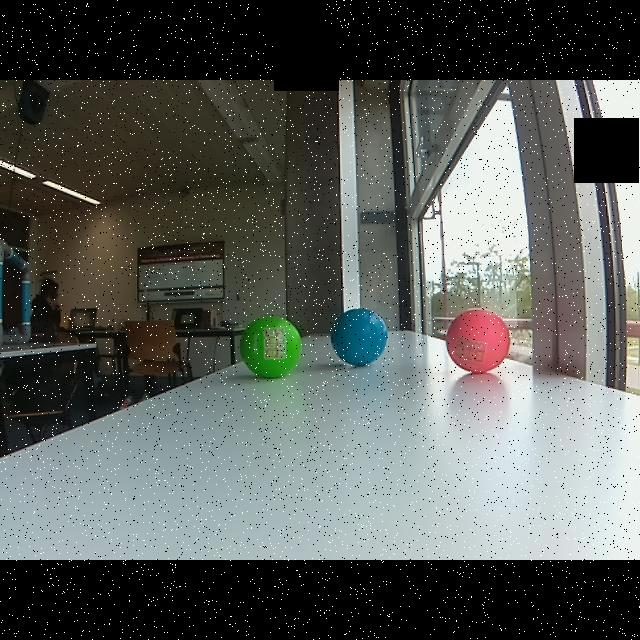ball: (445, 309, 512, 377), (332, 307, 388, 367)
